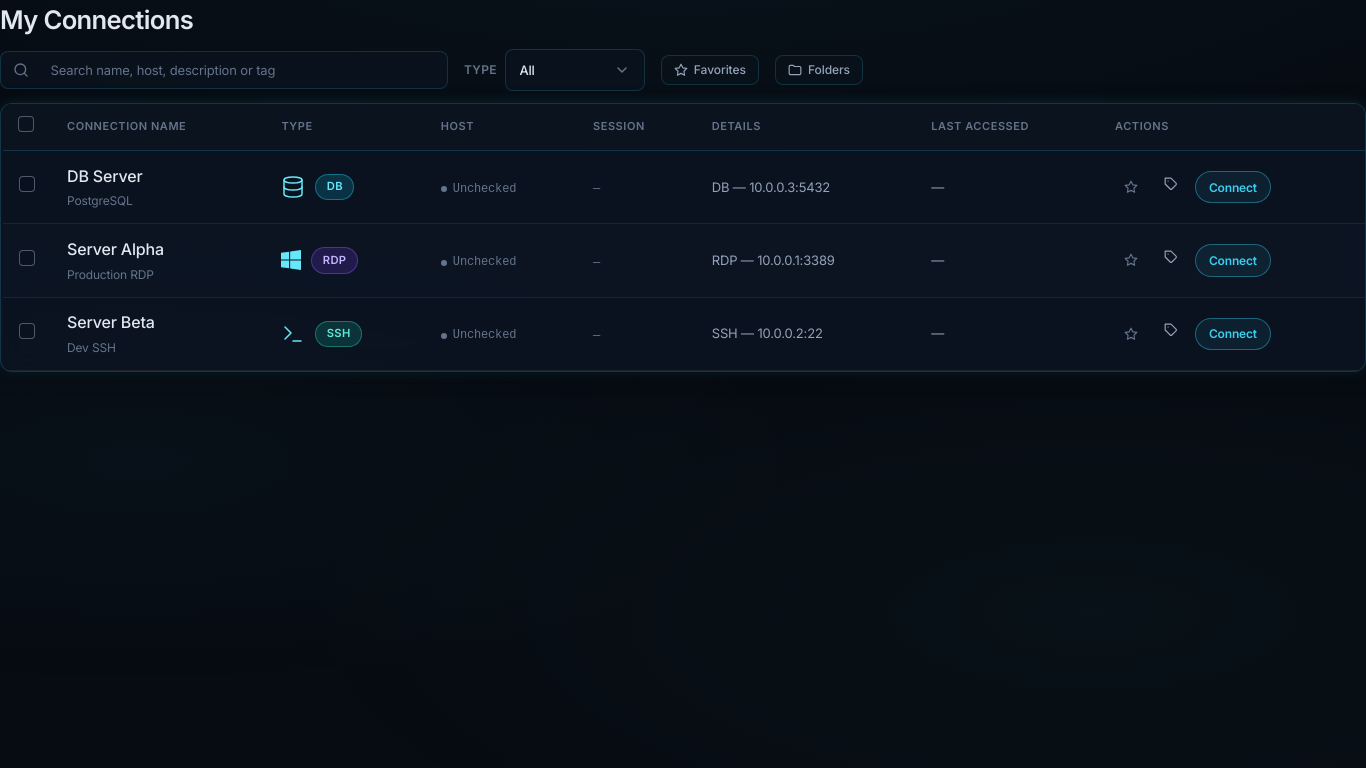
Test: Dashboard › cancels tiled credential prompt
The image size is (1366, 768).
Expected: the text "Server Alpha" is shown, [67, 239, 164, 259]
Step 1. Click the checkbox named "Select DB Server" → click(27, 184), box [19, 176, 35, 192]
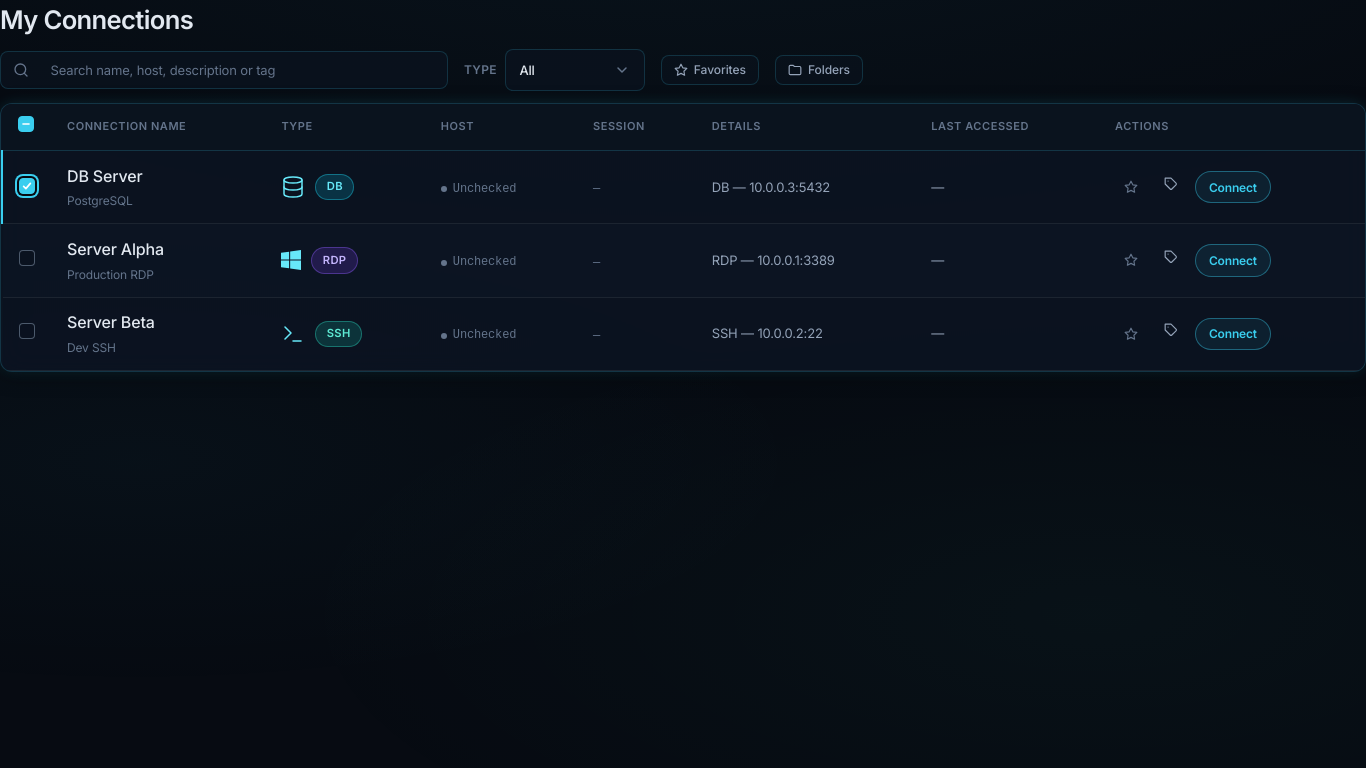
Step 2. Click the checkbox named "Select Server Alpha" → click(27, 258), box [19, 250, 35, 266]
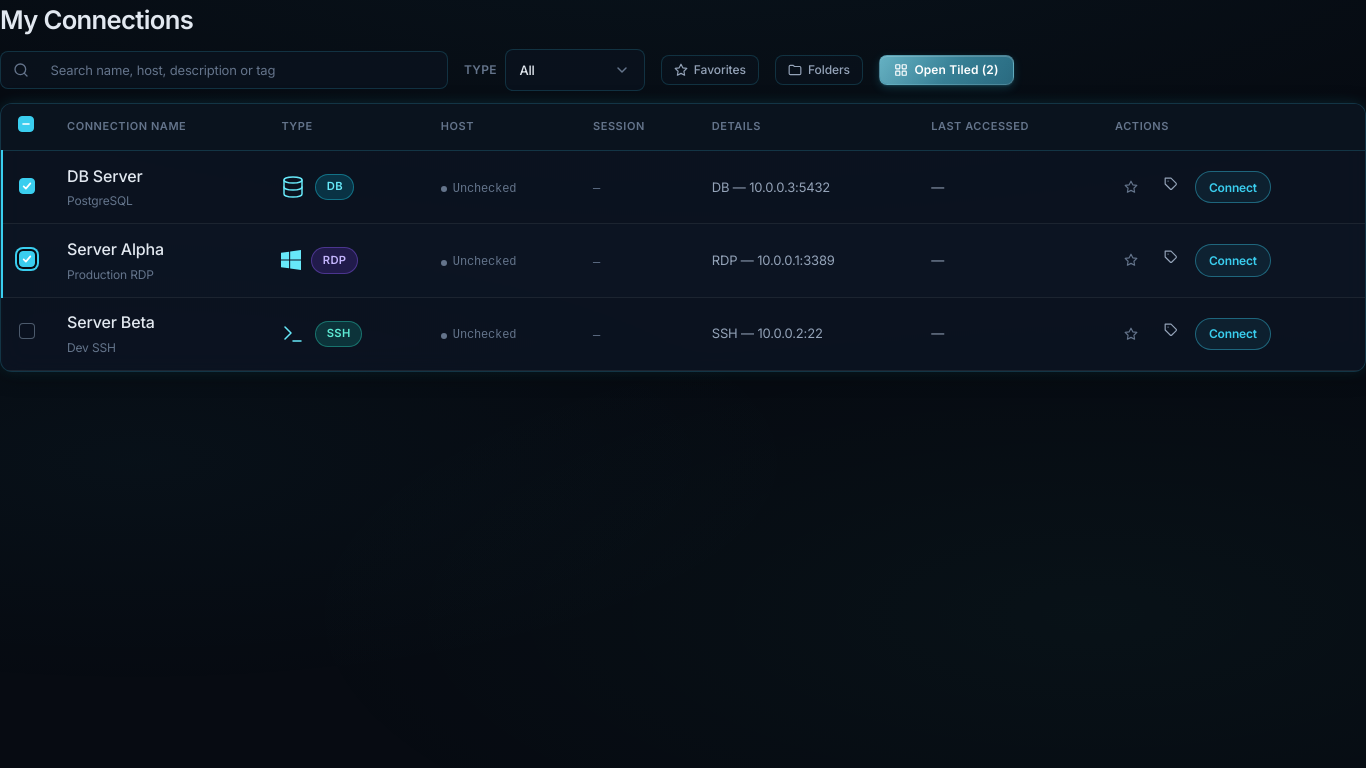
Step 3. Click the button "Open Tiled (2)" → click(946, 70), box [879, 54, 1014, 85]
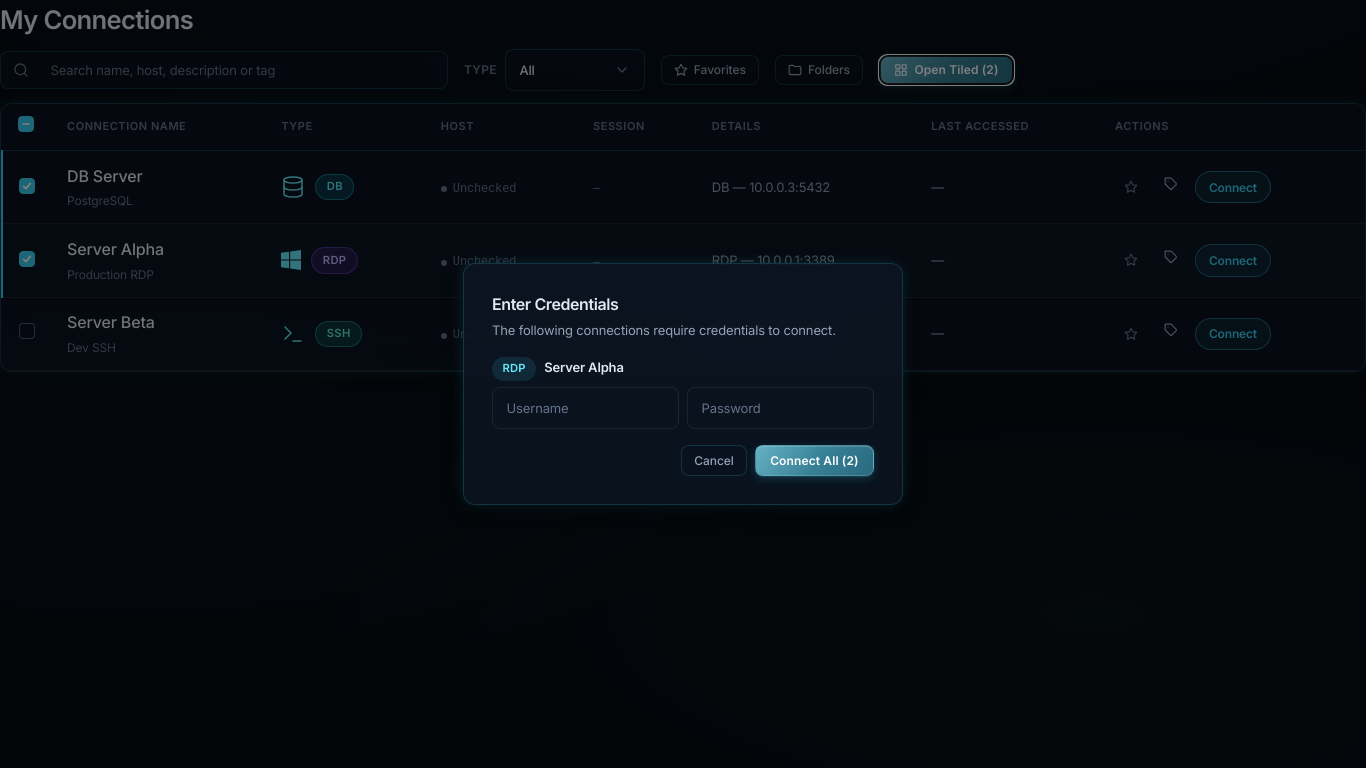
Result: the heading "Enter Credentials" is shown at [492, 294, 618, 314]
Step 4. Click the button "Cancel" → click(714, 460), box [681, 445, 747, 476]
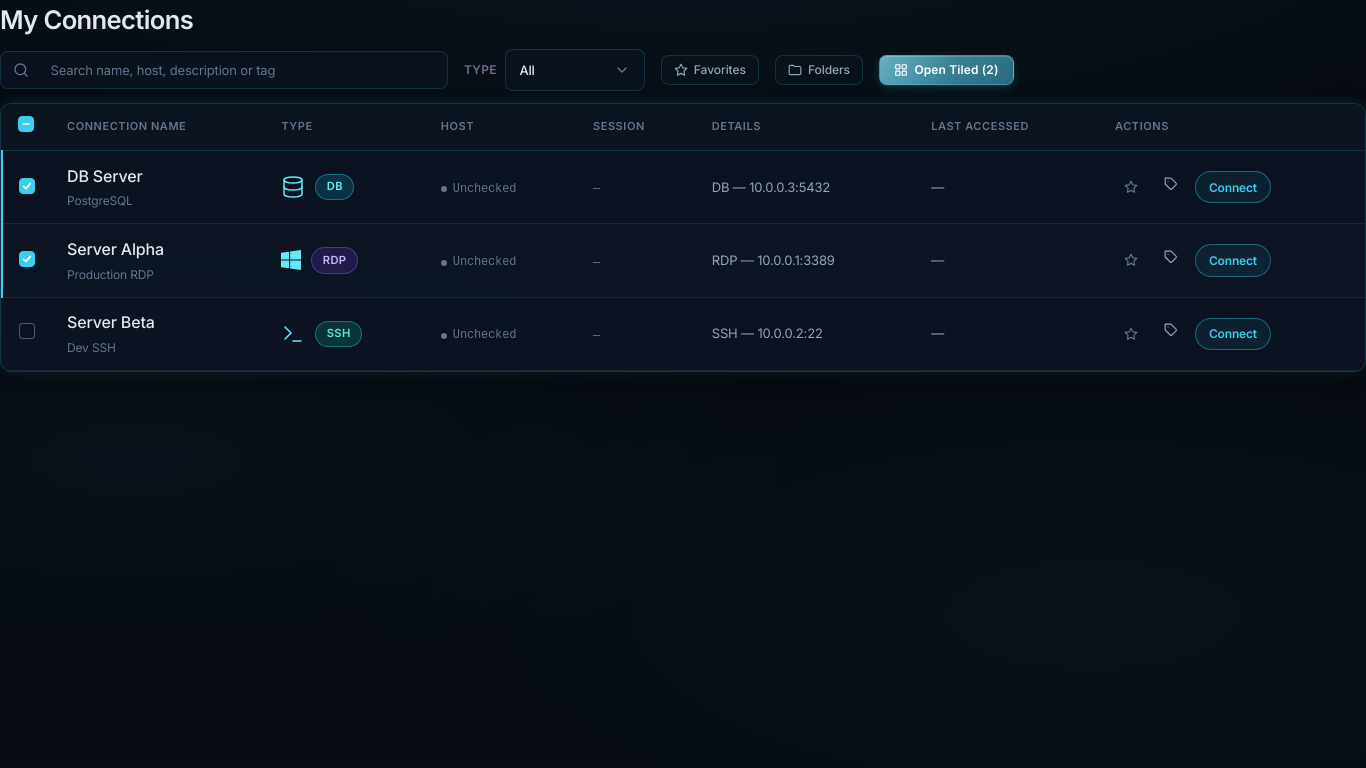
Result: the heading "Enter Credentials" is gone
